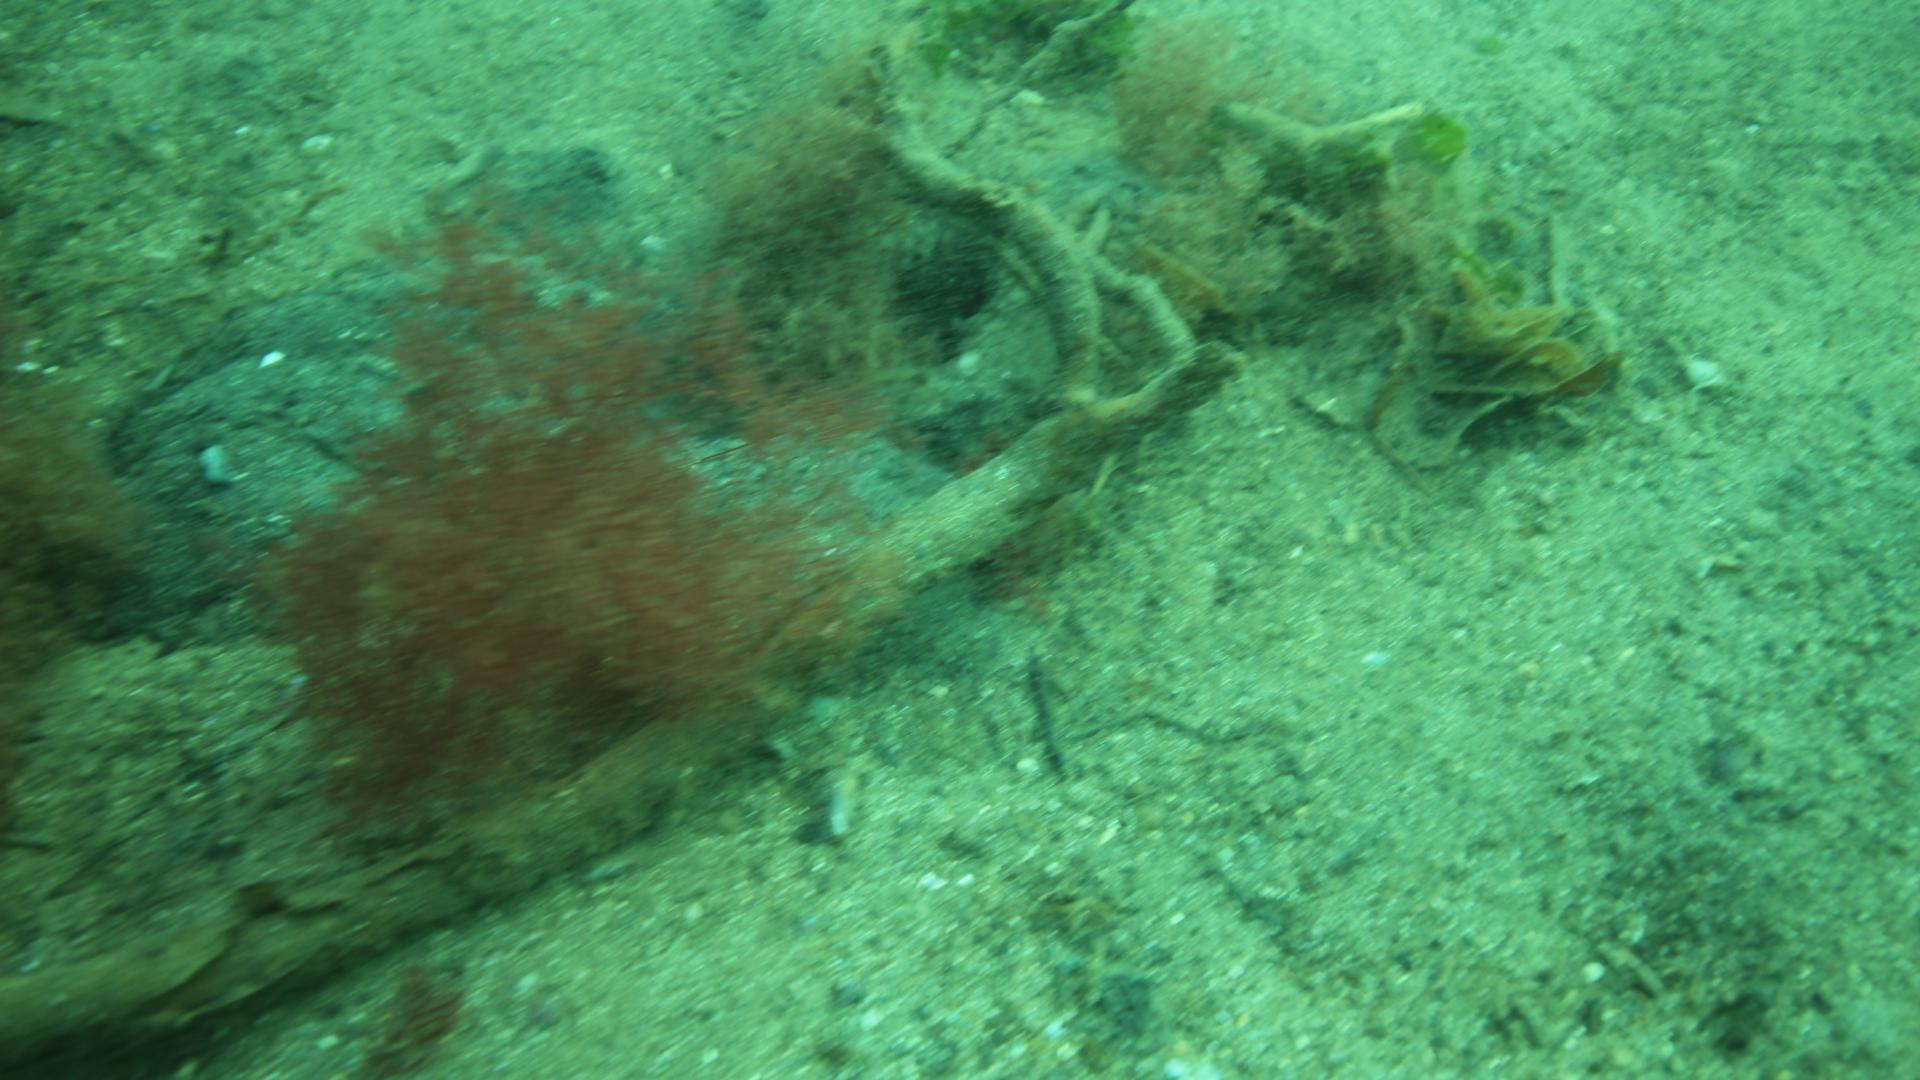wood: (0, 36, 1242, 1067)
